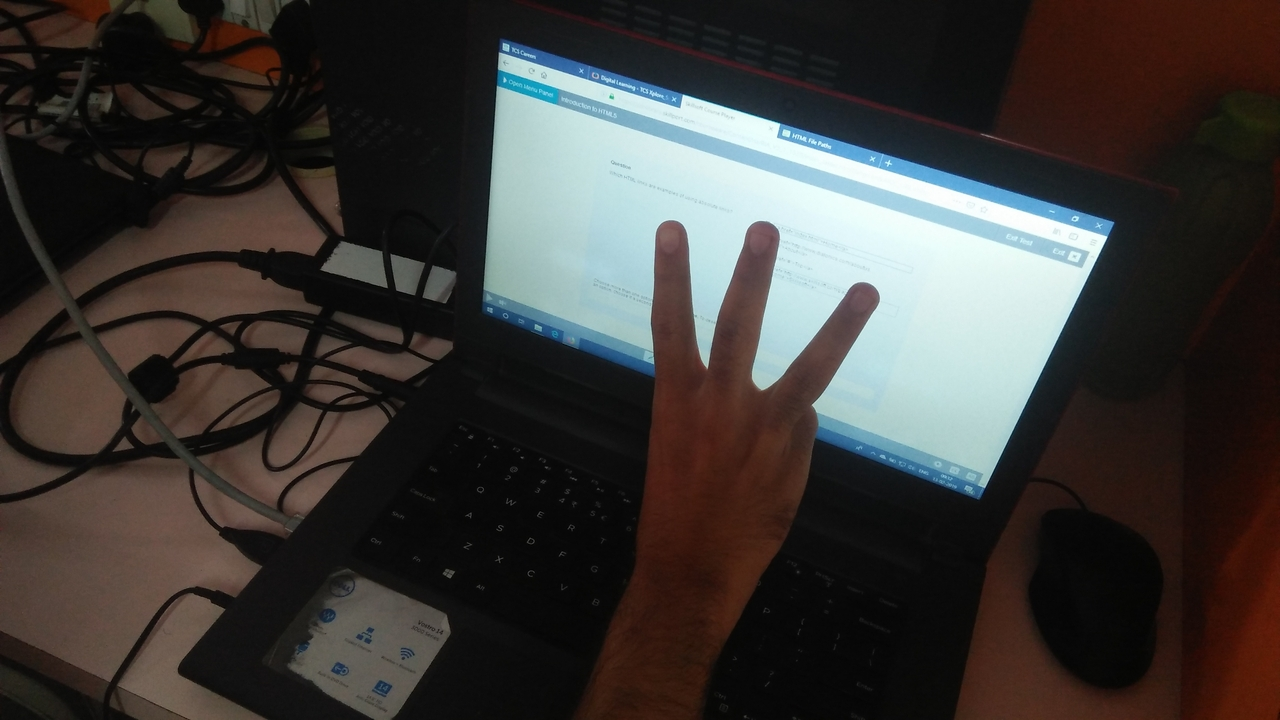fingertip: (828, 274, 888, 320), (732, 216, 788, 260), (646, 210, 698, 256)
